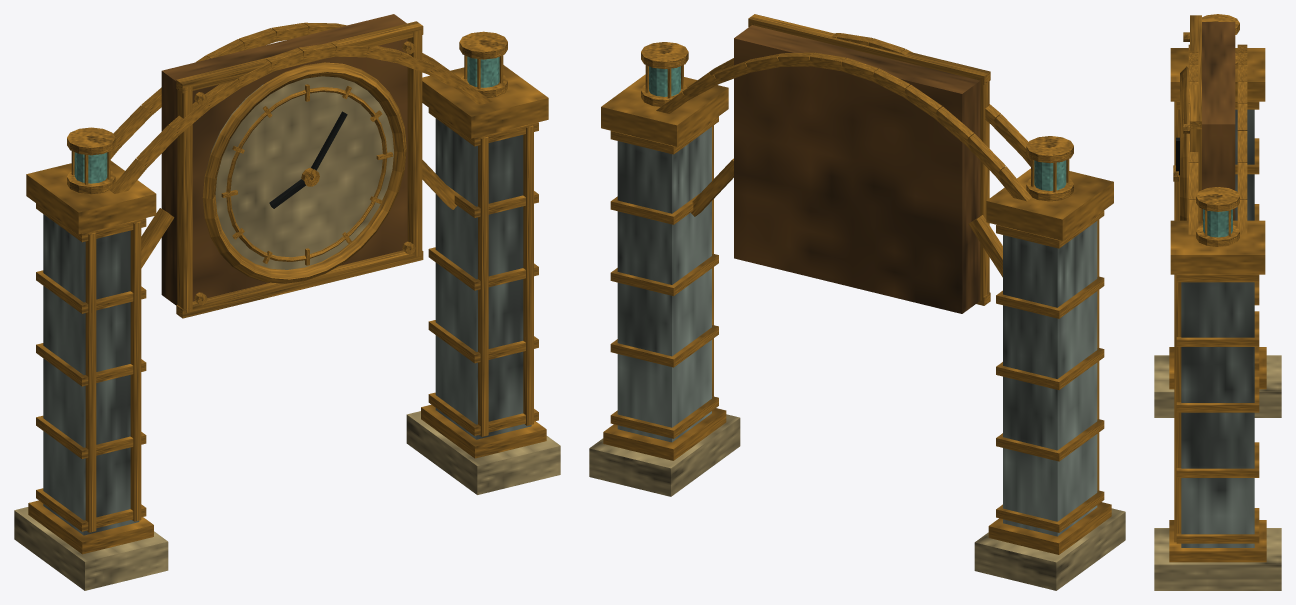
The model's file is south-countdown-gate.glb.
3 views of the same model, side by side, from view 1: azimuth 30°, elevation 25°; view 2: azimuth 150°, elevation 25°; view 3: azimuth 270°, elevation 25° (orthographic). The views are drawn at different scales.
Parts seen in each view (by area): view 1: south-countdown-gate; view 2: south-countdown-gate; view 3: south-countdown-gate.
Part boxes in pixels (x1,y1,x2,y2): south-countdown-gate: (14, 14, 560, 590); south-countdown-gate: (589, 14, 1125, 590); south-countdown-gate: (1154, 14, 1281, 590).
Bounding box in the file's own units: 9.71 × 9.11 × 2.5.
Materials: 1 (1 with a texture image).
